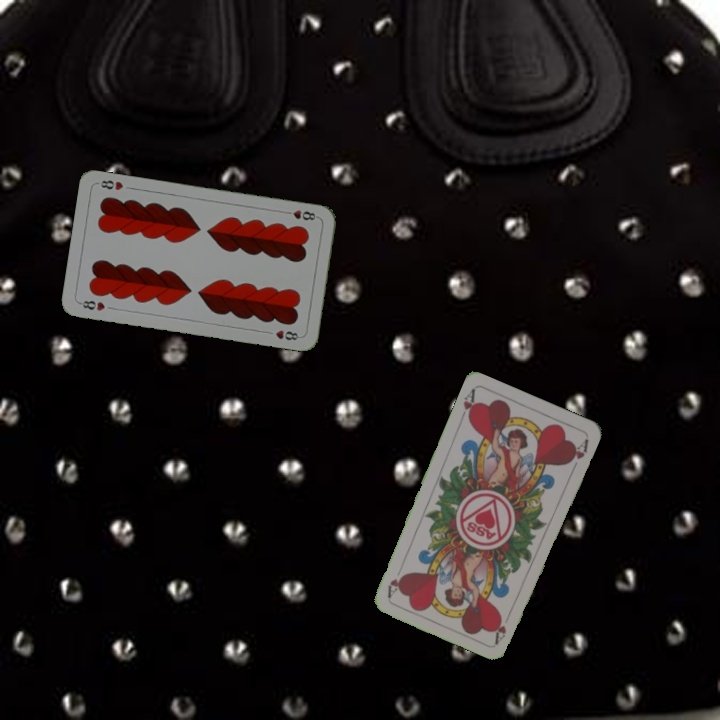H8: (280, 206, 321, 223), (76, 296, 108, 313)
HA: (455, 385, 479, 425), (491, 606, 514, 645)
